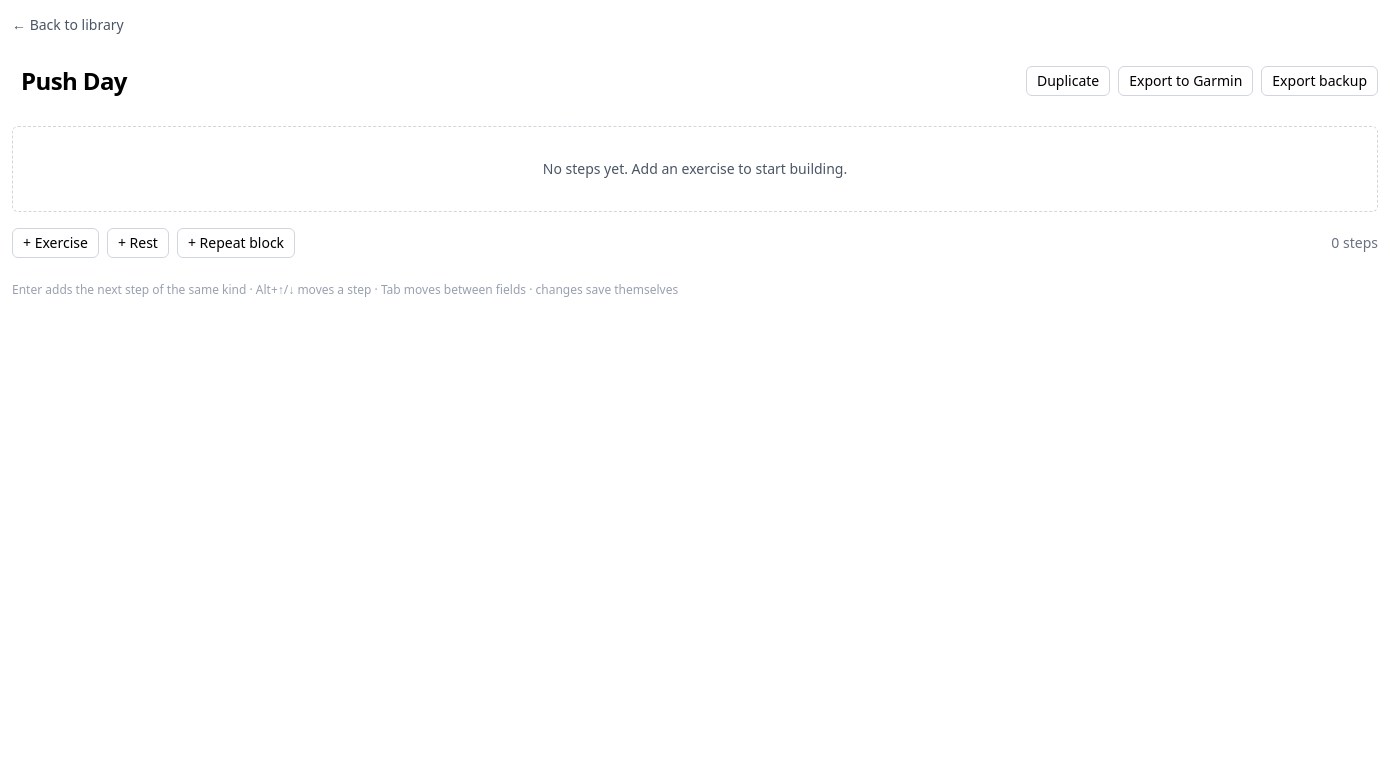
Test: WorkoutEditor › counts leaf steps, including the ones inside a block
This screenshot has width=1390, height=780.
Click the button "+ Repeat block" at (236, 243), box [177, 228, 295, 258]
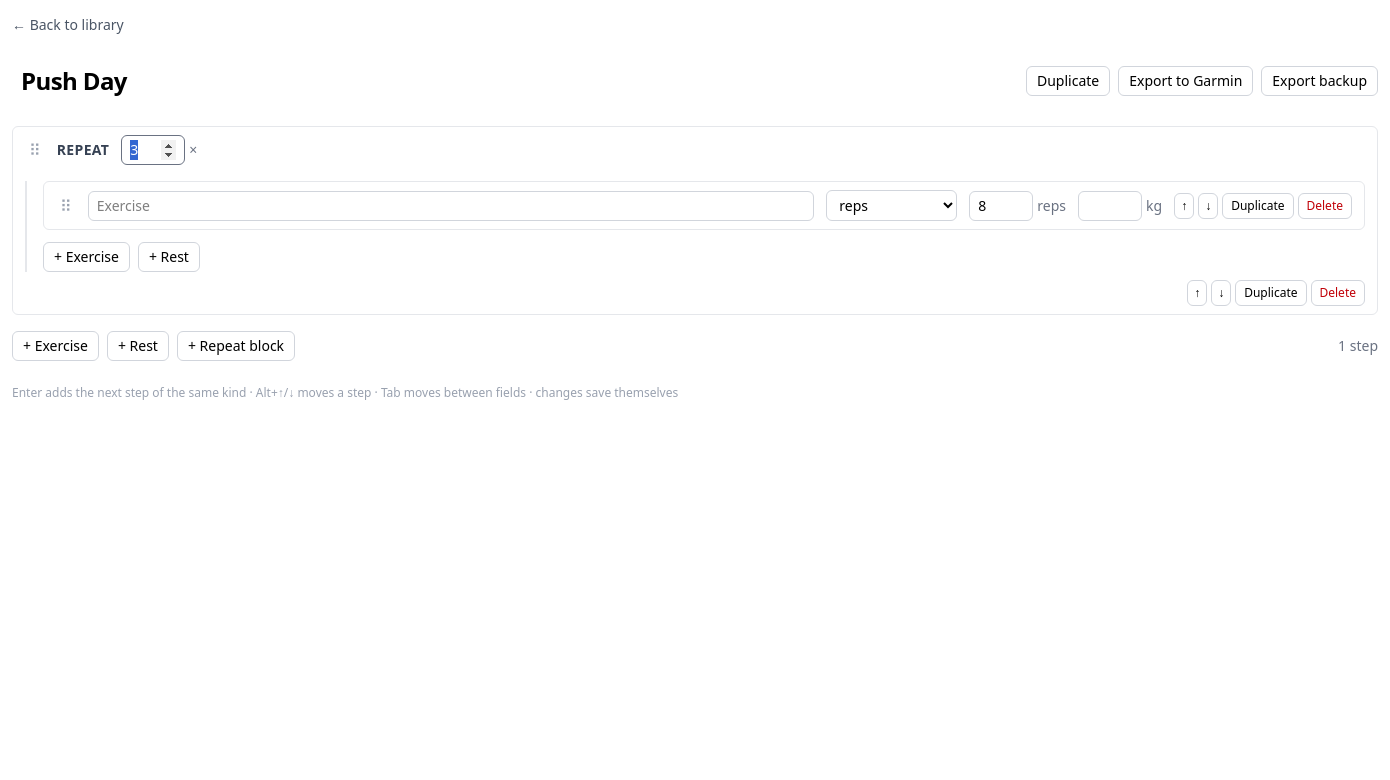
Click the 1st button "+ Rest" at (169, 257), box [138, 242, 200, 272]
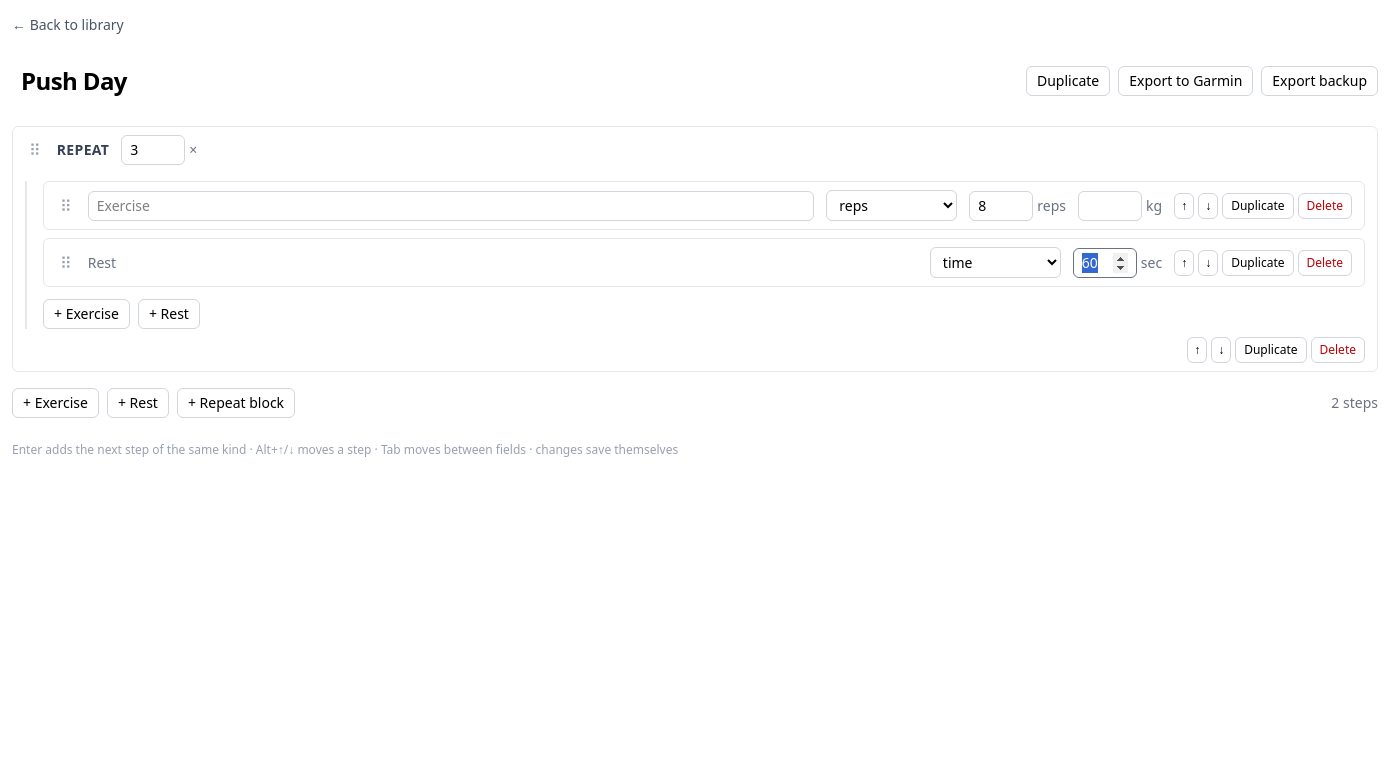
Click the 2nd button "+ Exercise" at (55, 403), box [12, 388, 99, 418]
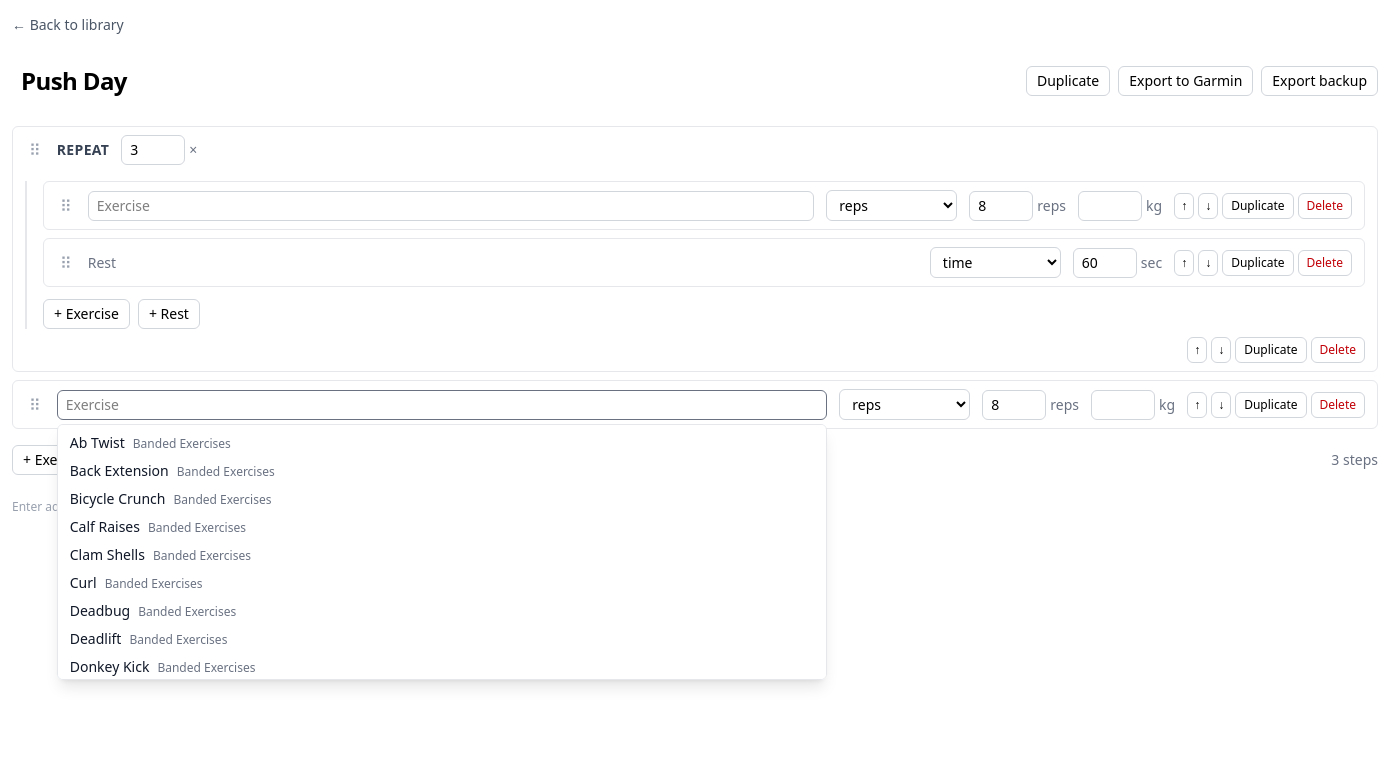
Now the text "3 steps" is shown, box [1331, 450, 1378, 470]
